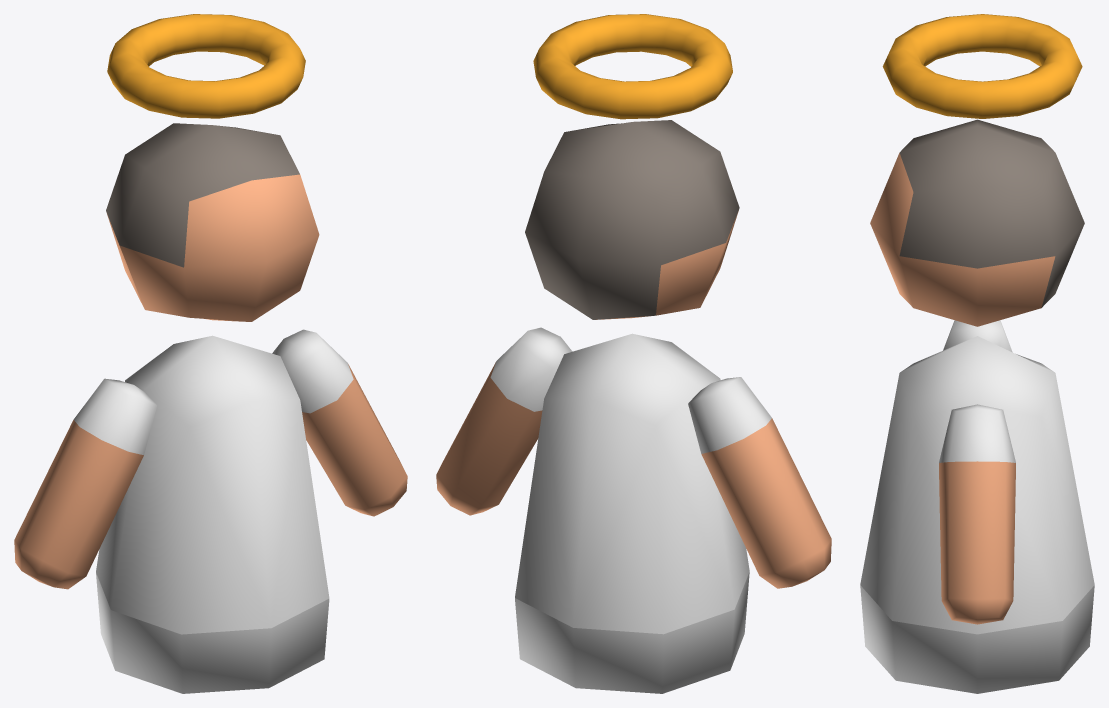
The model's file is Angel.fbx.
3 renders of one model, left to right at view 1: azimuth 30°, elevation 25°; view 2: azimuth 150°, elevation 25°; view 3: azimuth 270°, elevation 25°, orthographic.
Parts seen in each view (by area): view 1: Angel; view 2: Angel; view 3: Angel.
Part boxes in pixels (x1,y1,x2,y2): Angel: [14, 14, 407, 693]; Angel: [436, 14, 831, 693]; Angel: [860, 14, 1094, 693].
Size of the model in its own units: 137 by 214 by 73.8.
